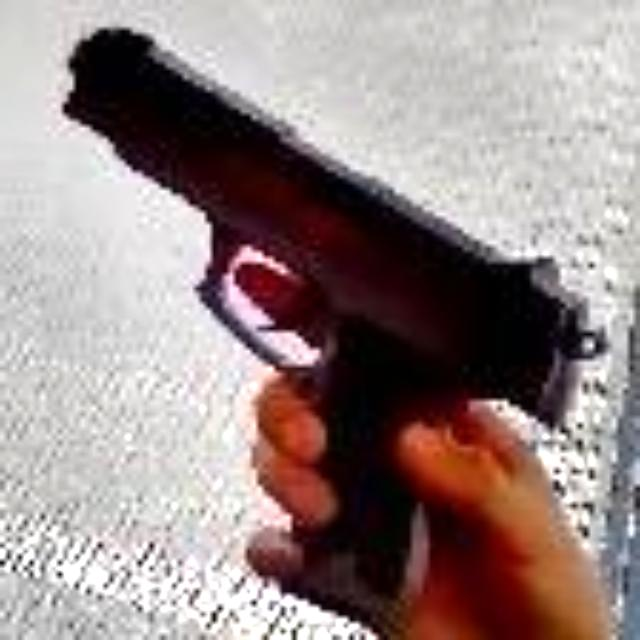pistol: (37, 0, 626, 640), (63, 29, 611, 640)
